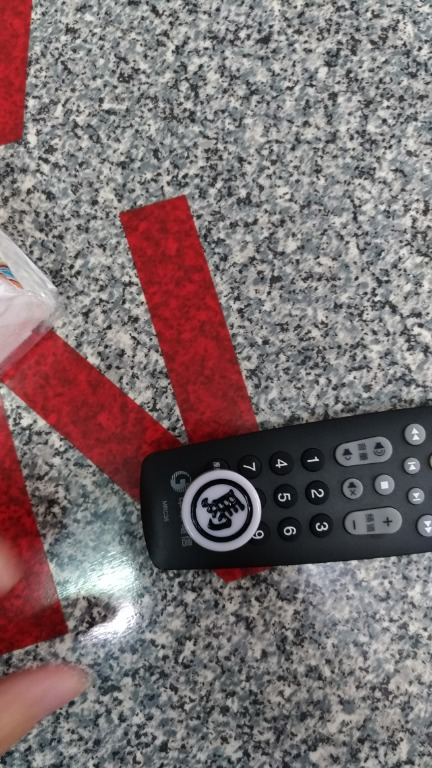b-knight: (167, 465, 283, 561)
